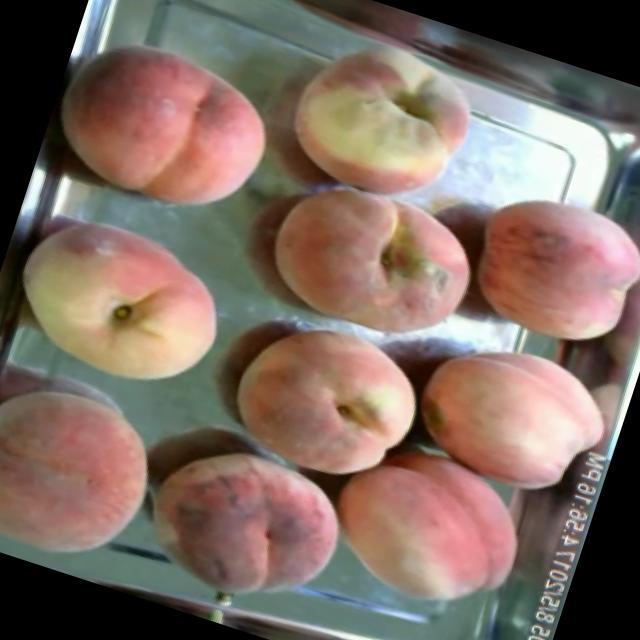Fruit: (0, 183, 259, 430), (30, 8, 298, 246), (105, 408, 371, 638), (238, 150, 502, 366), (259, 0, 503, 227), (202, 288, 448, 502), (303, 426, 547, 636), (0, 335, 194, 594), (392, 313, 626, 514), (439, 162, 640, 372)
